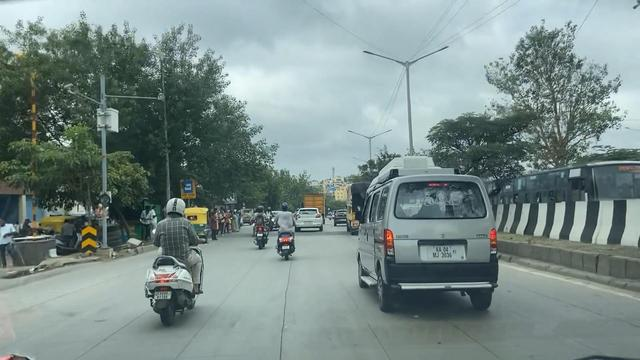LMV: (348, 180, 500, 312), (141, 191, 202, 319)
